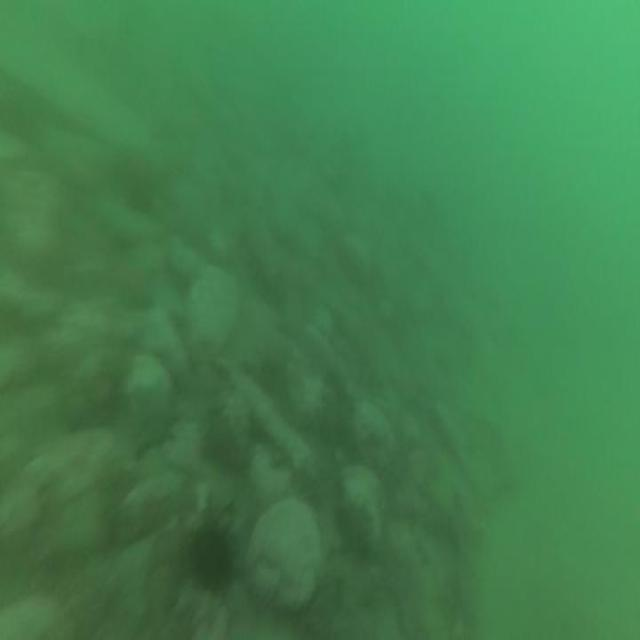echinus: (187, 516, 238, 604), (122, 168, 154, 216)
